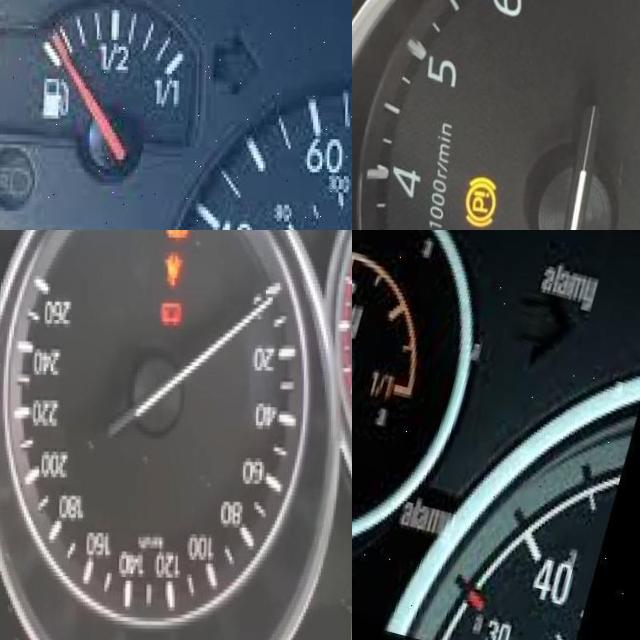Seat Belt: (164, 251, 184, 285)
